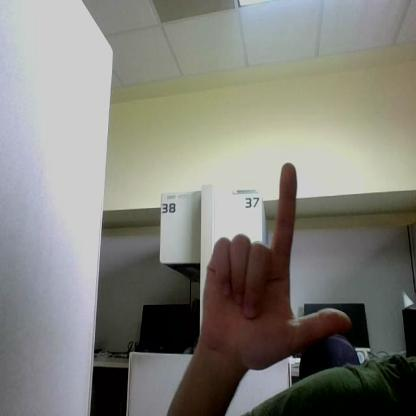L: (202, 161, 350, 370)
